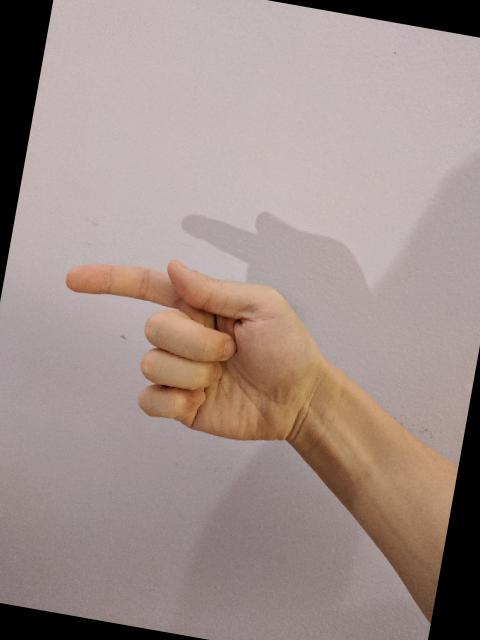G: (37, 235, 336, 459)
